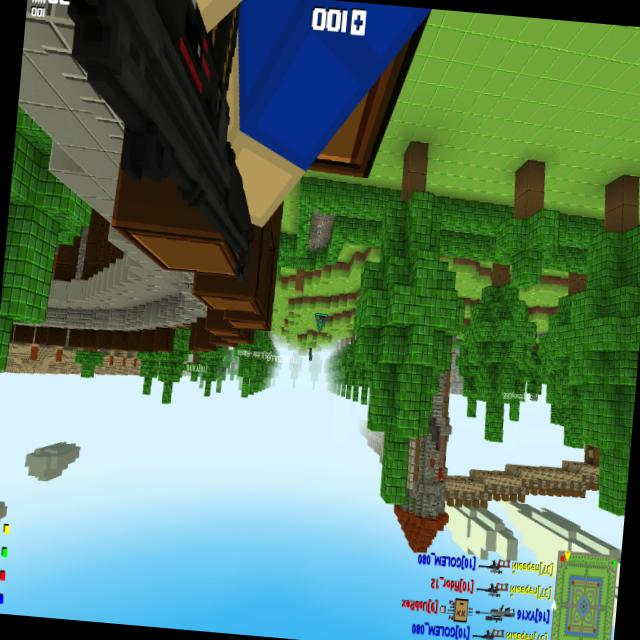enemy: (308, 348, 313, 361)
